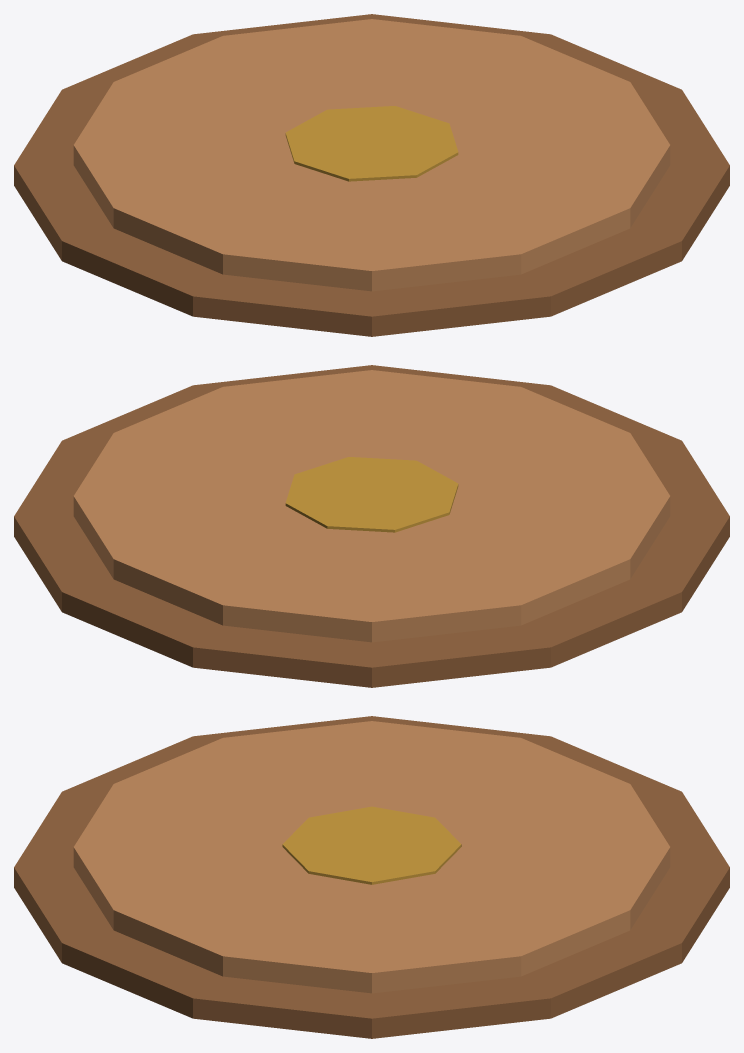
File: SM_ProvDais.fbx
The picture shows the model from 3 angles, top to bottom: view 1: azimuth 30°, elevation 25°; view 2: azimuth 150°, elevation 25°; view 3: azimuth 270°, elevation 25°; orthographic projection.
Visible parts, largest first — view 1: SM_ProvDais; view 2: SM_ProvDais; view 3: SM_ProvDais.
Boxes of the visible parts, bbox=[...] form: SM_ProvDais: bbox=[14, 14, 729, 336]; SM_ProvDais: bbox=[14, 365, 729, 687]; SM_ProvDais: bbox=[14, 716, 729, 1038].
Size of the model in its own units: 7.2 by 7.2 by 0.48.
